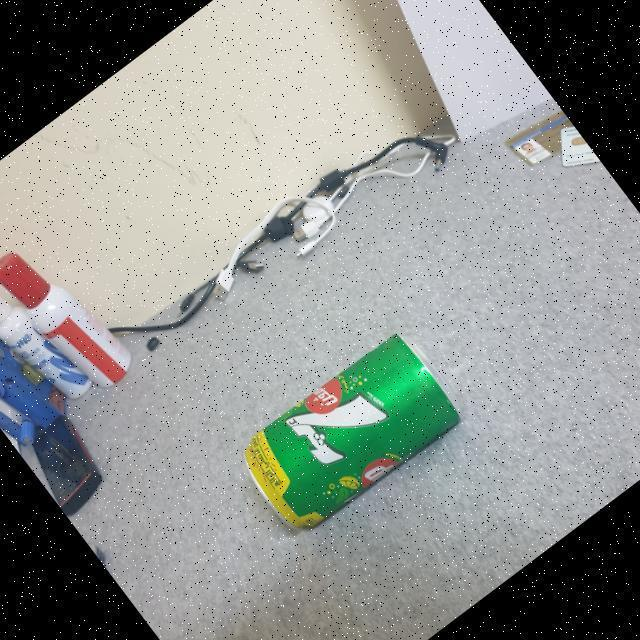can: (215, 304, 495, 572)
